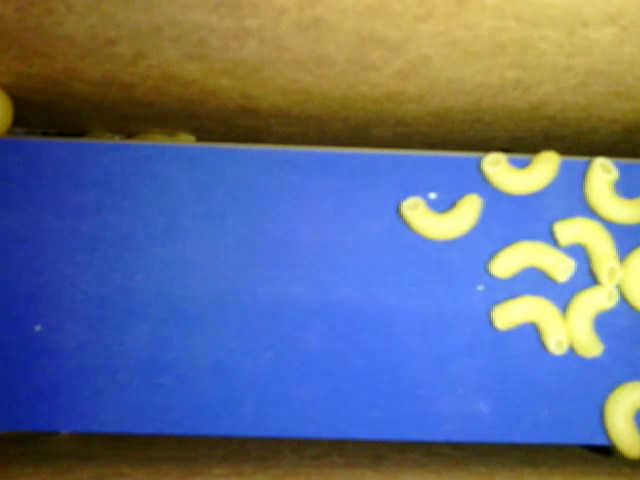elbow: (552, 214, 624, 292), (491, 293, 573, 360), (566, 281, 619, 362), (486, 240, 576, 287), (478, 149, 563, 197), (396, 196, 484, 242), (582, 155, 639, 226), (602, 381, 639, 461)
